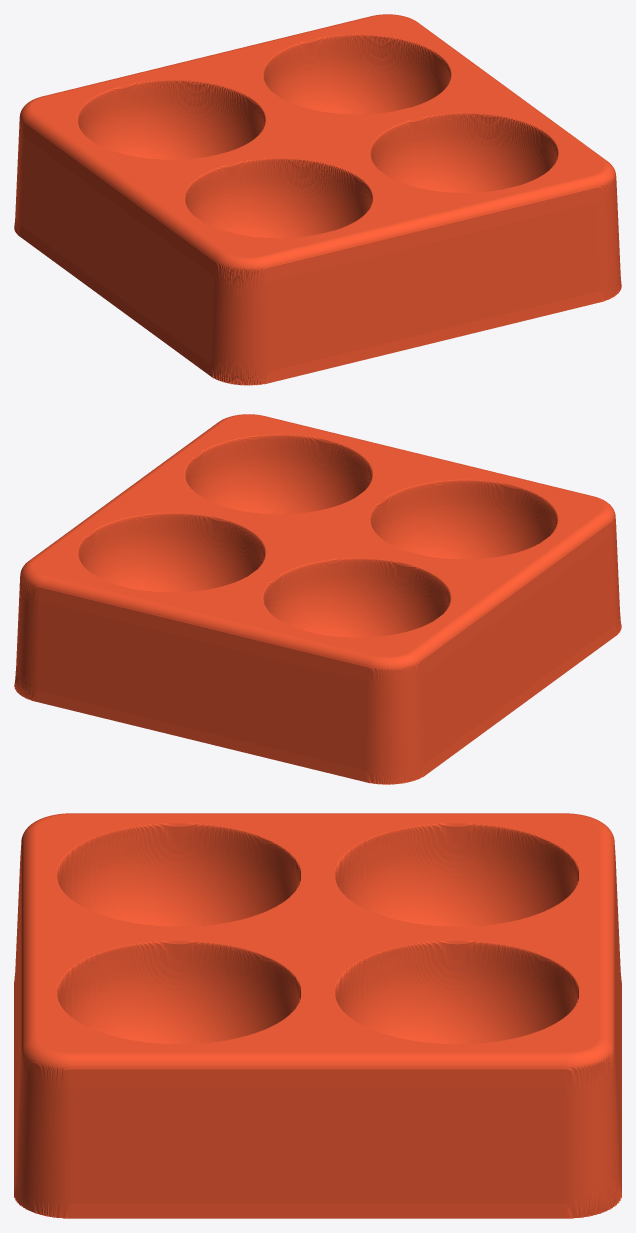
The model's file is mold.glb.
3 renders of one model, top to bottom at view 1: azimuth 30°, elevation 25°; view 2: azimuth 150°, elevation 25°; view 3: azimuth 270°, elevation 25°, orthographic. The views are drawn at different scales.
Visible parts, largest first — view 1: geometry_0; view 2: geometry_0; view 3: geometry_0.
Part boxes in pixels (left/top/right/bottom): geometry_0: left=14, top=14, right=621, bottom=385; geometry_0: left=14, top=414, right=621, bottom=784; geometry_0: left=14, top=813, right=621, bottom=1218.
Size of the model in its own units: 0.0962 by 0.0273 by 0.0962.
